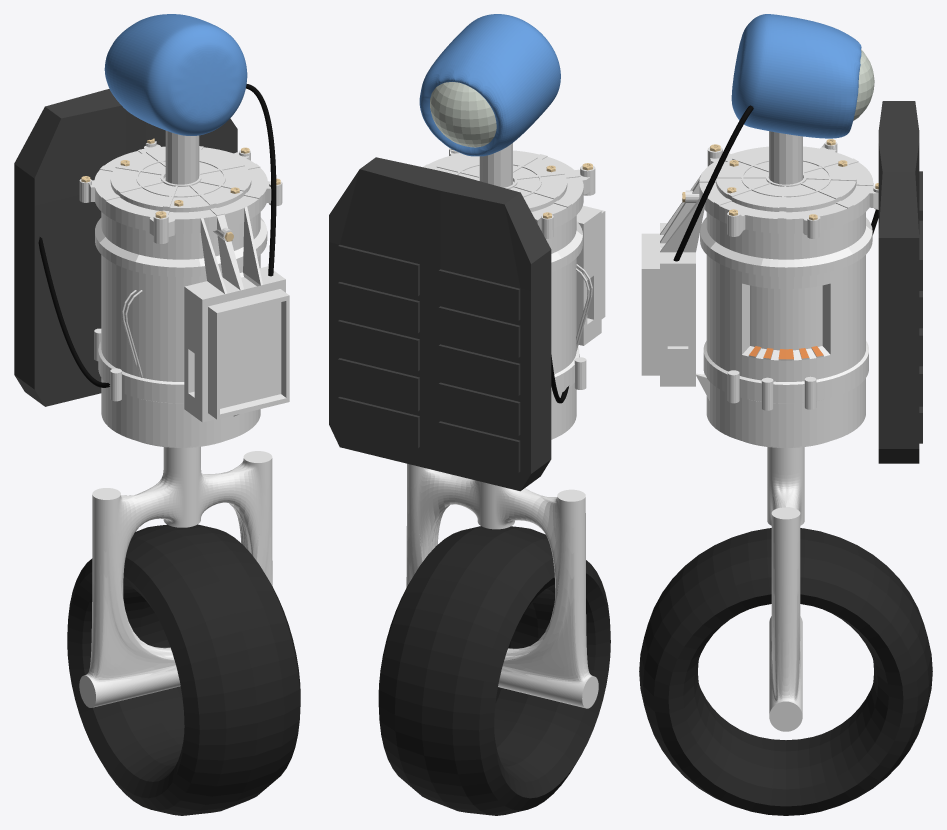
The model's file is enemy1.fbx.
The picture shows the model from 3 angles, left to right: view 1: azimuth 30°, elevation 25°; view 2: azimuth 150°, elevation 25°; view 3: azimuth 270°, elevation 25°; orthographic projection.
Parts seen in each view (by area): view 1: Cylinder.003, Torus, Cube, Cylinder.012, Cylinder.001, Cylinder.004, Catenary.001, Catenary; view 2: Cube, Torus, Cylinder.012, Cylinder.003, Cylinder.001, Cylinder.002, Cylinder.004; view 3: Cylinder.003, Torus, Cube, Cylinder.001, Cylinder.012, Cylinder.004, Catenary.001, Cylinder.002.
Part boxes in pixels (left/top/right/bottom): Cylinder.003: left=79, top=141, right=289, bottom=447; Torus: left=67, top=524, right=300, bottom=815; Cube: left=14, top=89, right=237, bottom=406; Cylinder.012: left=79, top=446, right=272, bottom=707; Cylinder.001: left=104, top=14, right=247, bottom=135; Cylinder.004: left=165, top=130, right=199, bottom=184; Catenary.001: left=246, top=84, right=276, bottom=276; Catenary: left=38, top=237, right=109, bottom=387; Cube: left=329, top=157, right=551, bottom=491; Torus: left=378, top=526, right=610, bottom=815; Cylinder.012: left=406, top=463, right=598, bottom=708; Cylinder.003: left=423, top=148, right=605, bottom=439; Cylinder.001: left=419, top=14, right=560, bottom=156; Cylinder.002: left=430, top=82, right=496, bottom=147; Cylinder.004: left=479, top=143, right=512, bottom=187; Cylinder.003: left=641, top=141, right=878, bottom=447; Torus: left=639, top=528, right=932, bottom=815; Cube: left=878, top=101, right=922, bottom=463; Cylinder.001: left=731, top=14, right=861, bottom=138; Cylinder.012: left=767, top=447, right=804, bottom=731; Cylinder.004: left=769, top=131, right=802, bottom=184; Catenary.001: left=673, top=105, right=753, bottom=261; Cylinder.002: left=853, top=49, right=874, bottom=120.
Bounding box in the file's own units: 135 × 498 × 169.
